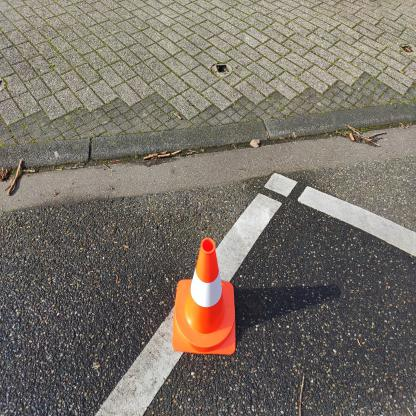Cones_small_orange: (166, 234, 245, 372)
